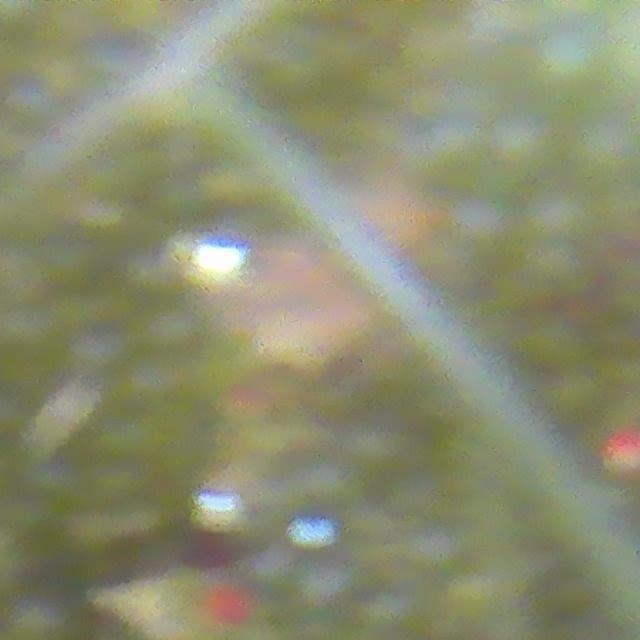SeaGrape: (531, 23, 609, 99), (490, 104, 559, 176), (528, 183, 597, 247), (451, 190, 514, 252)
